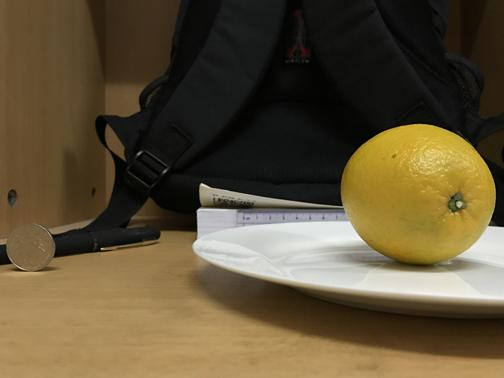coin: (4, 224, 56, 272)
orange: (342, 121, 497, 266)
